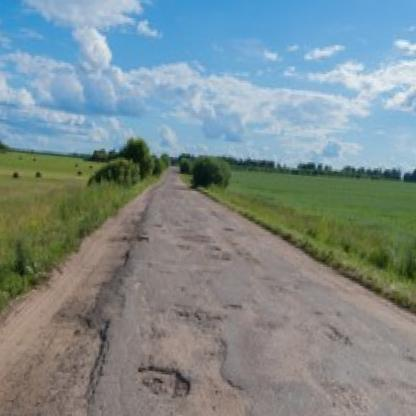pothole: (132, 362, 191, 401)
